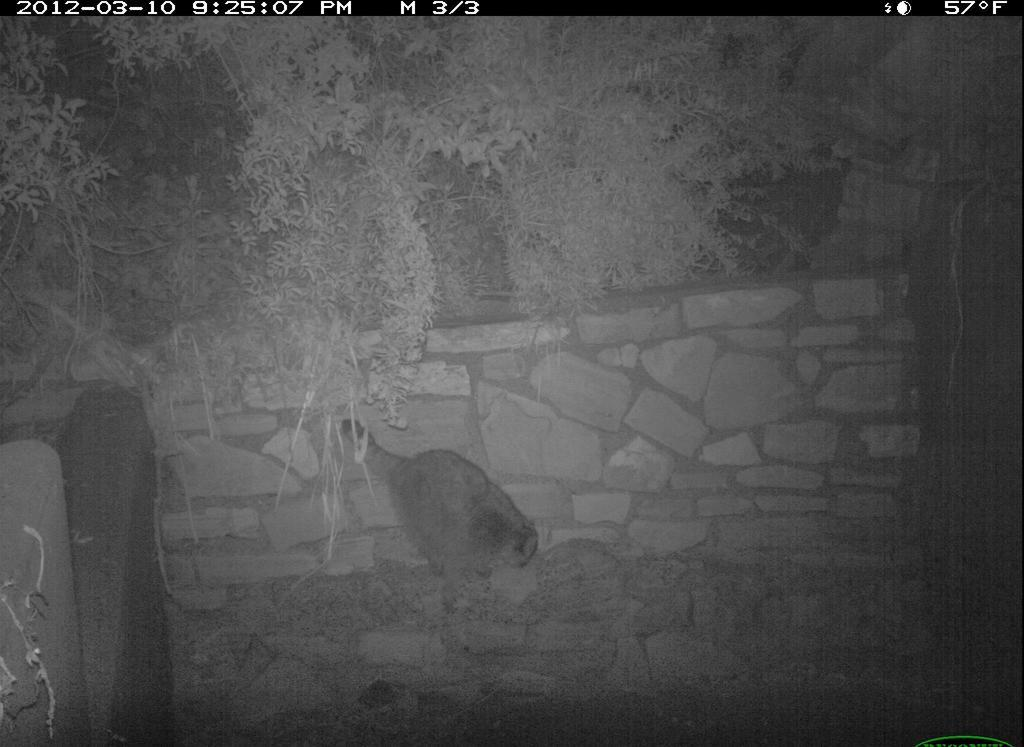raccoon: (333, 408, 550, 612)
